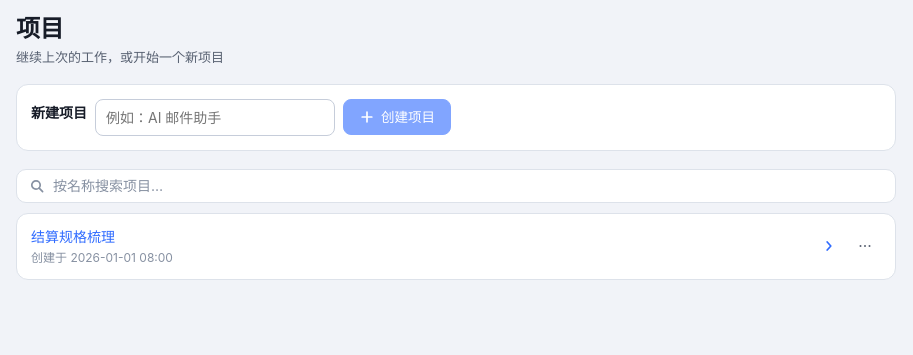
Scenario: ProjectsView › clears the search from the toolbar button
Type "zzz" into the field with test id "project-search" at coordinates (454, 186), box [53,168,855,202]
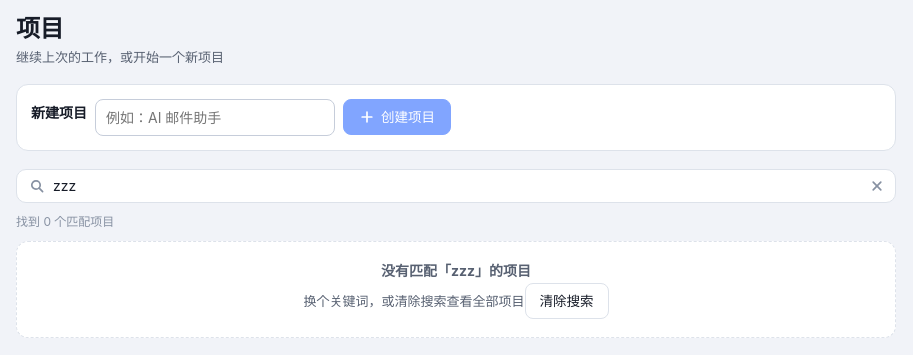
Click the button with test id "project-search-clear" at coordinates (877, 186), box [865,174,889,198]
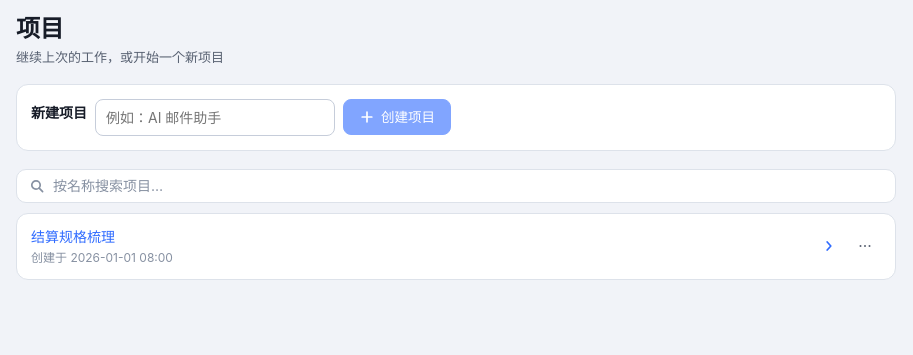
Expected: the text "结算规格梳理" is shown, [31,228,115,244]
